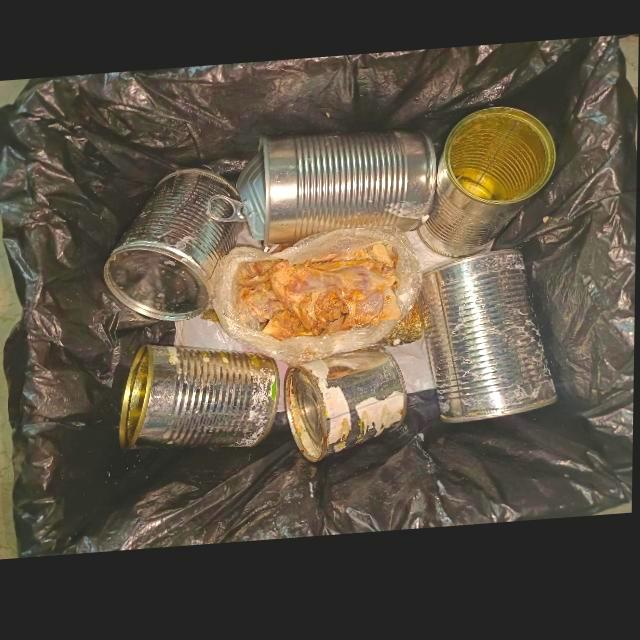aluminum: (208, 136, 439, 250), (418, 257, 560, 429), (104, 171, 246, 327), (419, 115, 558, 264), (121, 346, 281, 452), (284, 352, 408, 467)
left_over_food: (227, 251, 398, 340)
